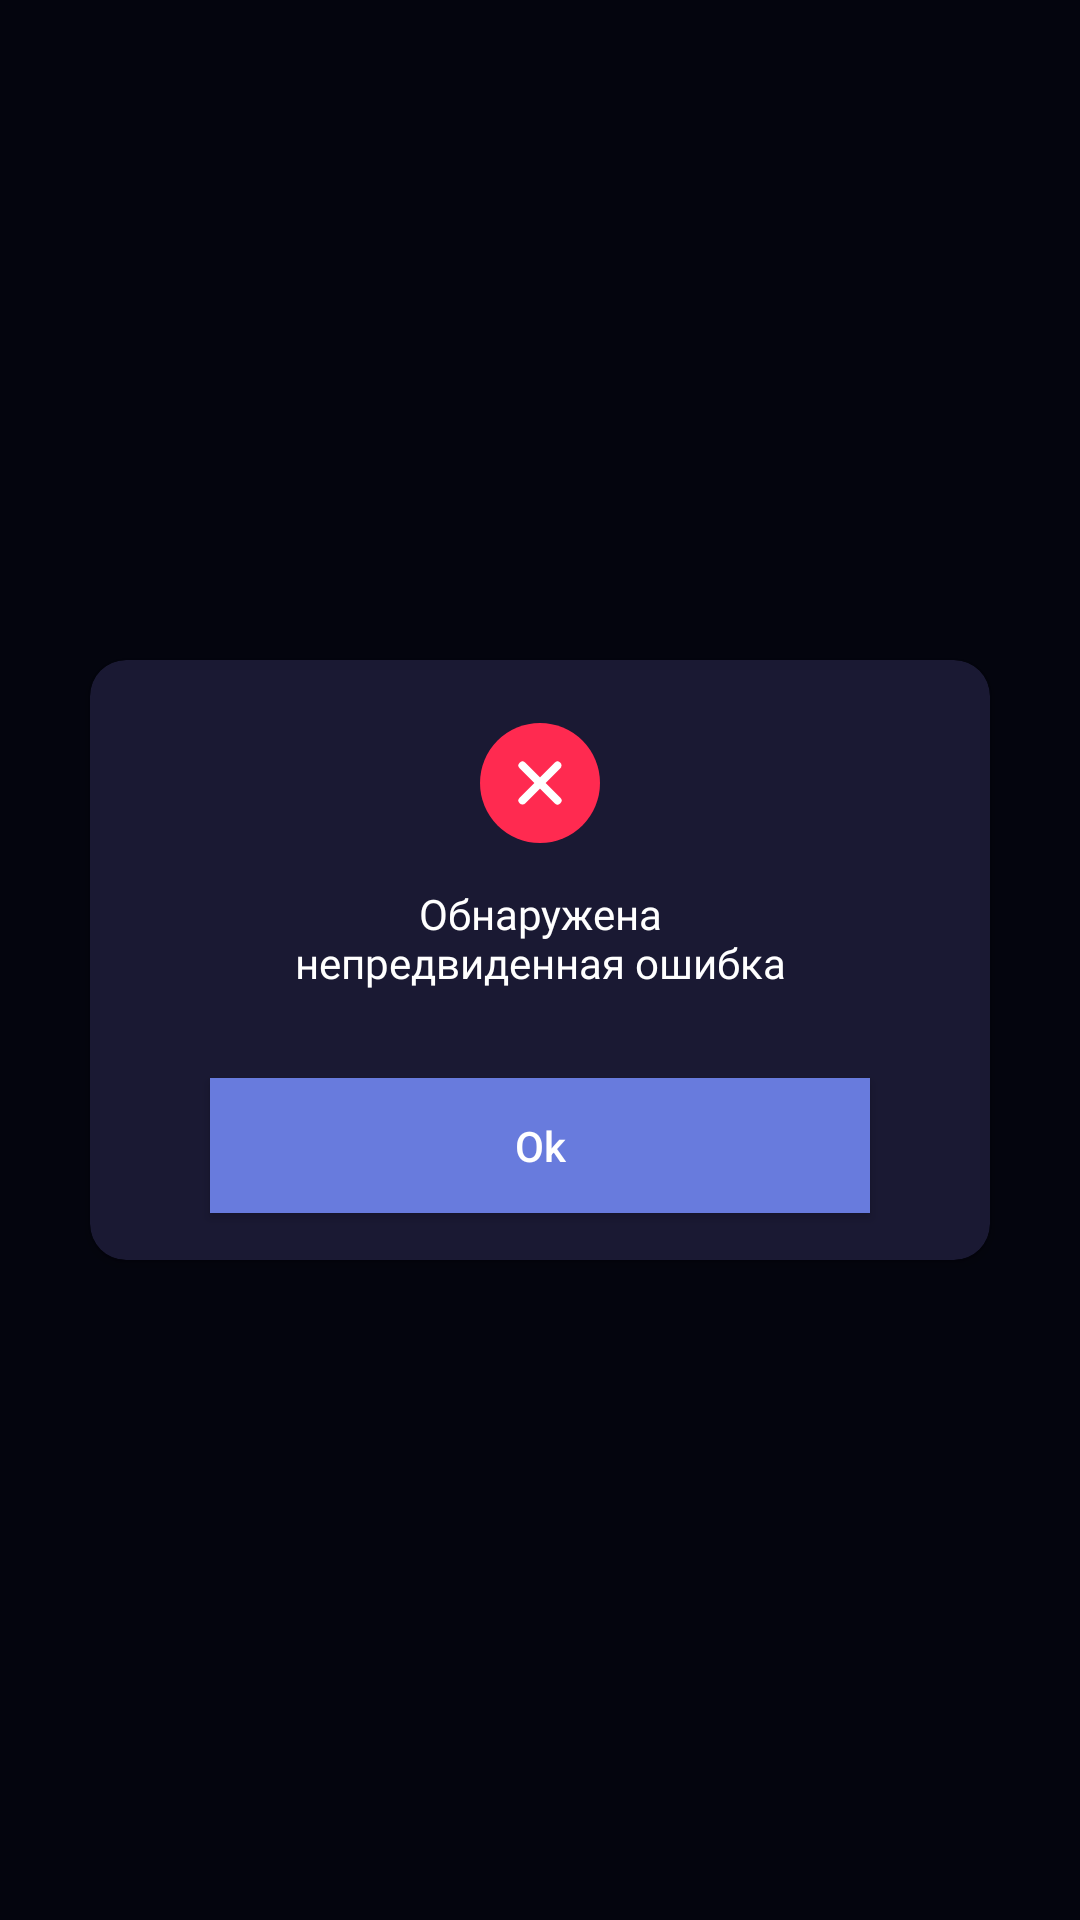

Where to tap for icons on this 1080 × 1920 app screen, as (x=x, y=y):
exit: (x=540, y=783)
